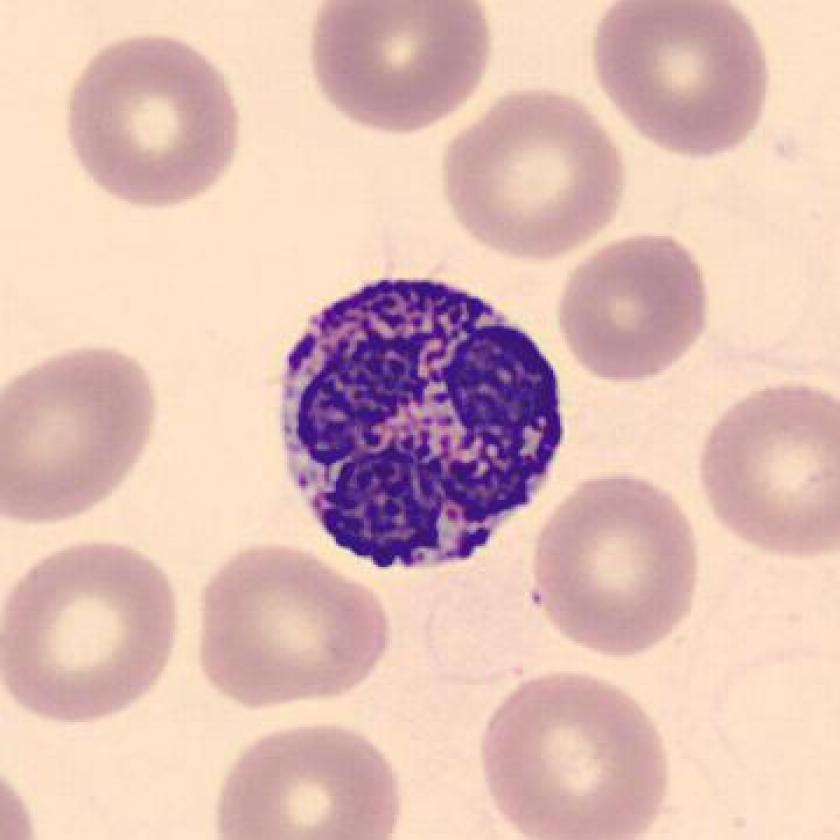basophil: (272, 258, 577, 577)
